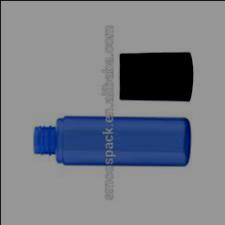Plastic: (25, 111, 193, 171)
